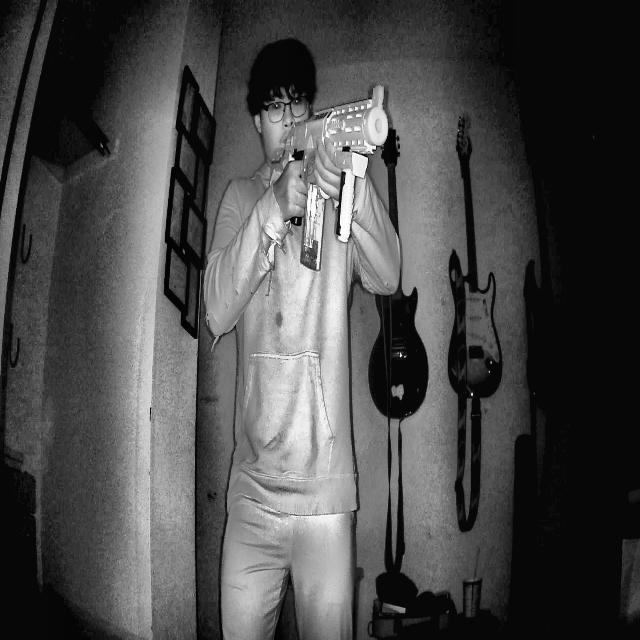Nerf_Blaster: (267, 77, 393, 279)
